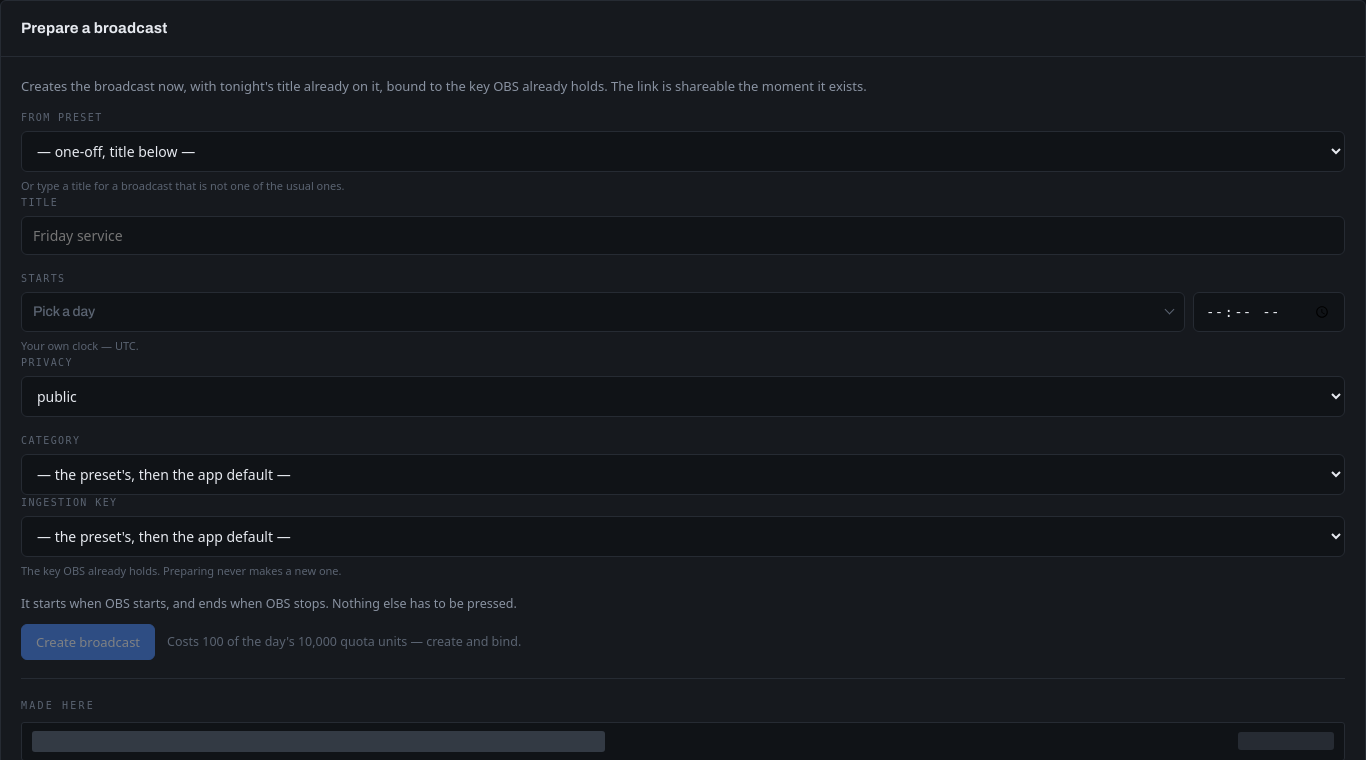
Scenario: PrepareBroadcast › will not create anything until it has a title and a start time
Expected: the button "Create broadcast" is disabled, [21,624,155,660]
Select "Friday service" in the dropdown labelled "From preset": (683, 152) [21,131,1345,172]
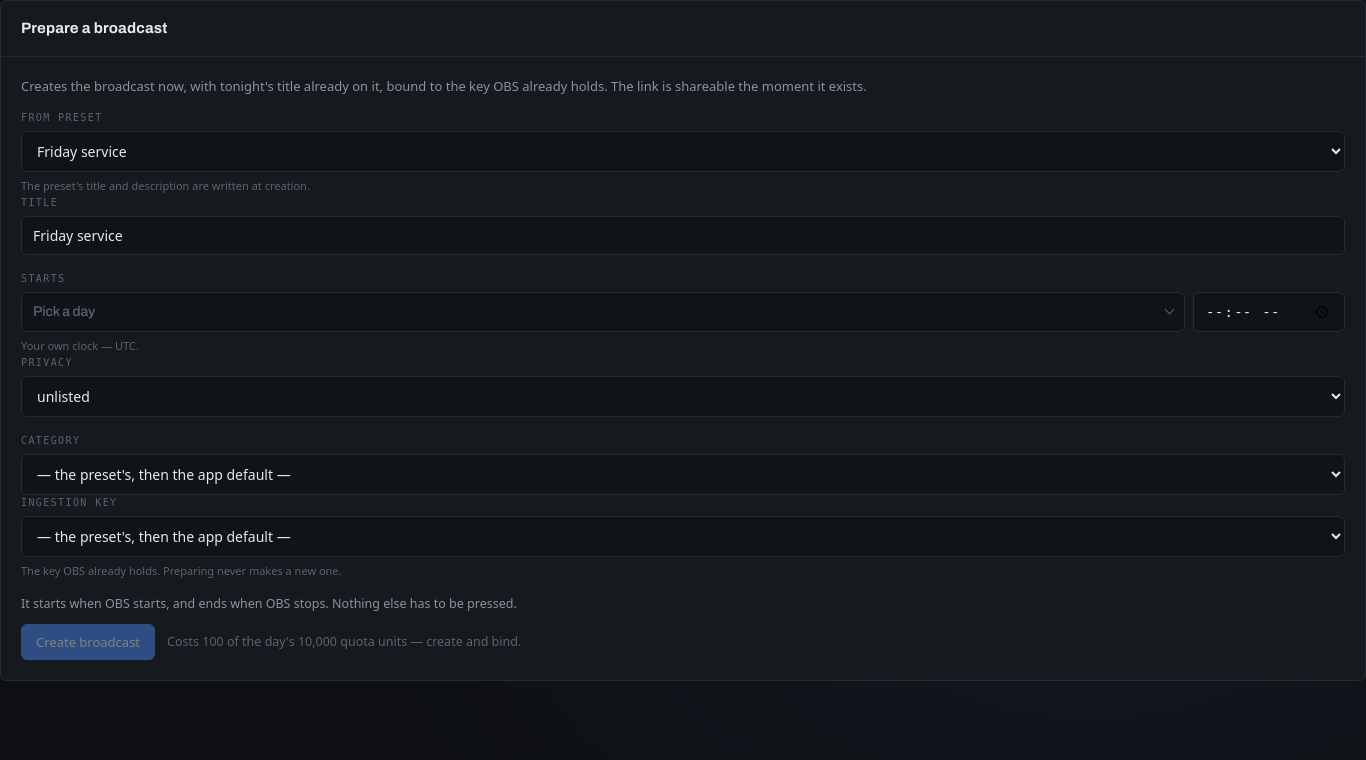
Expected: the button "Create broadcast" is disabled, [21,624,155,660]
Click the button named "Starts ": click(64, 312) [21,292,1185,332]
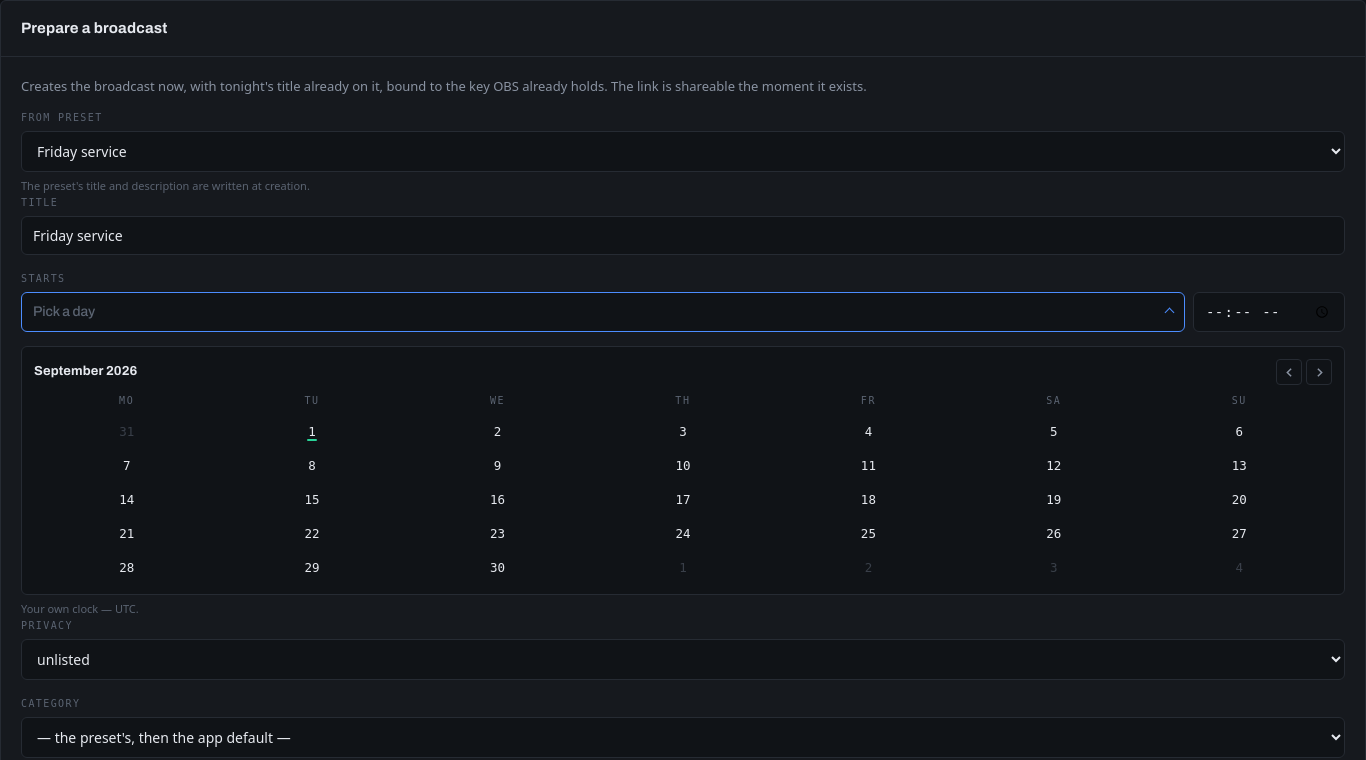
Click the button named "Friday, September 4th, 2026": click(868, 431) [777,415,960,447]
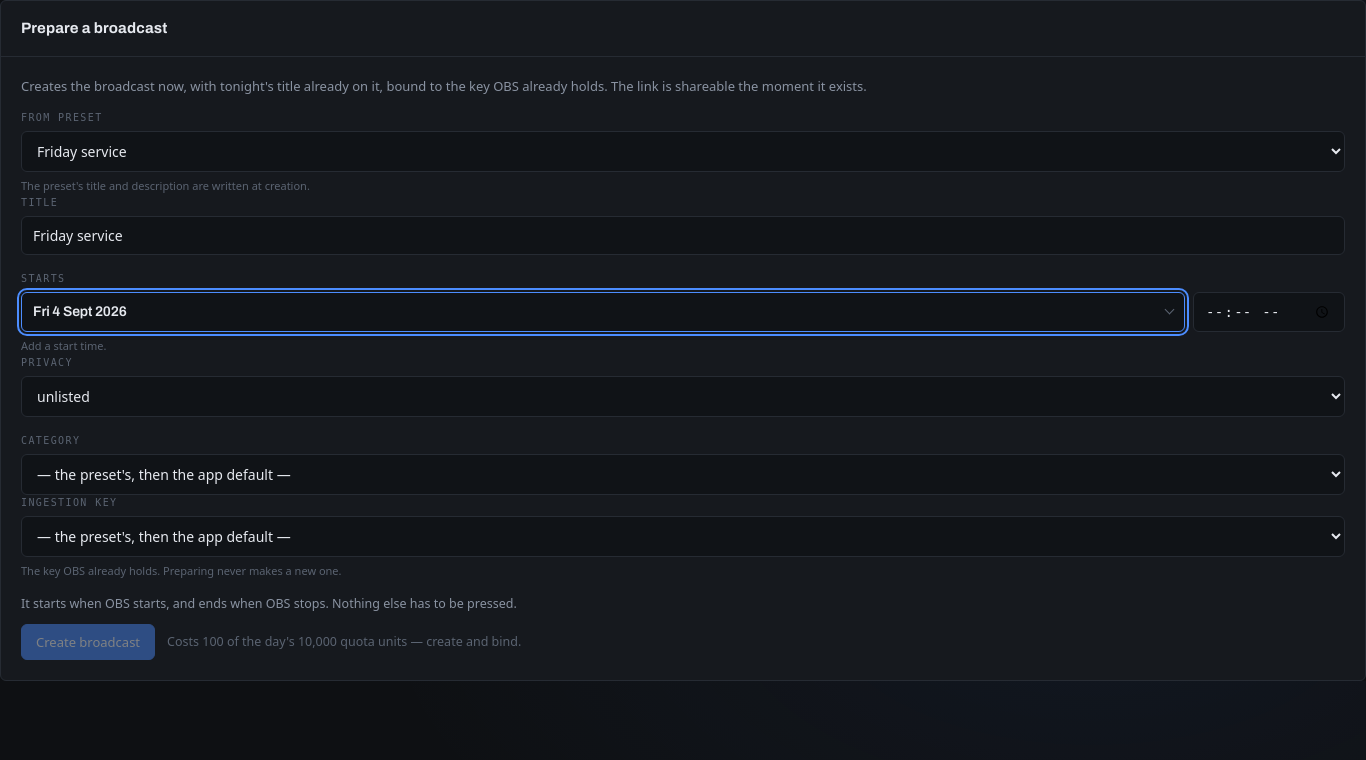
In the time field named "Starts — time of day": (1269, 312) [1193,292,1345,332], type "19:00"
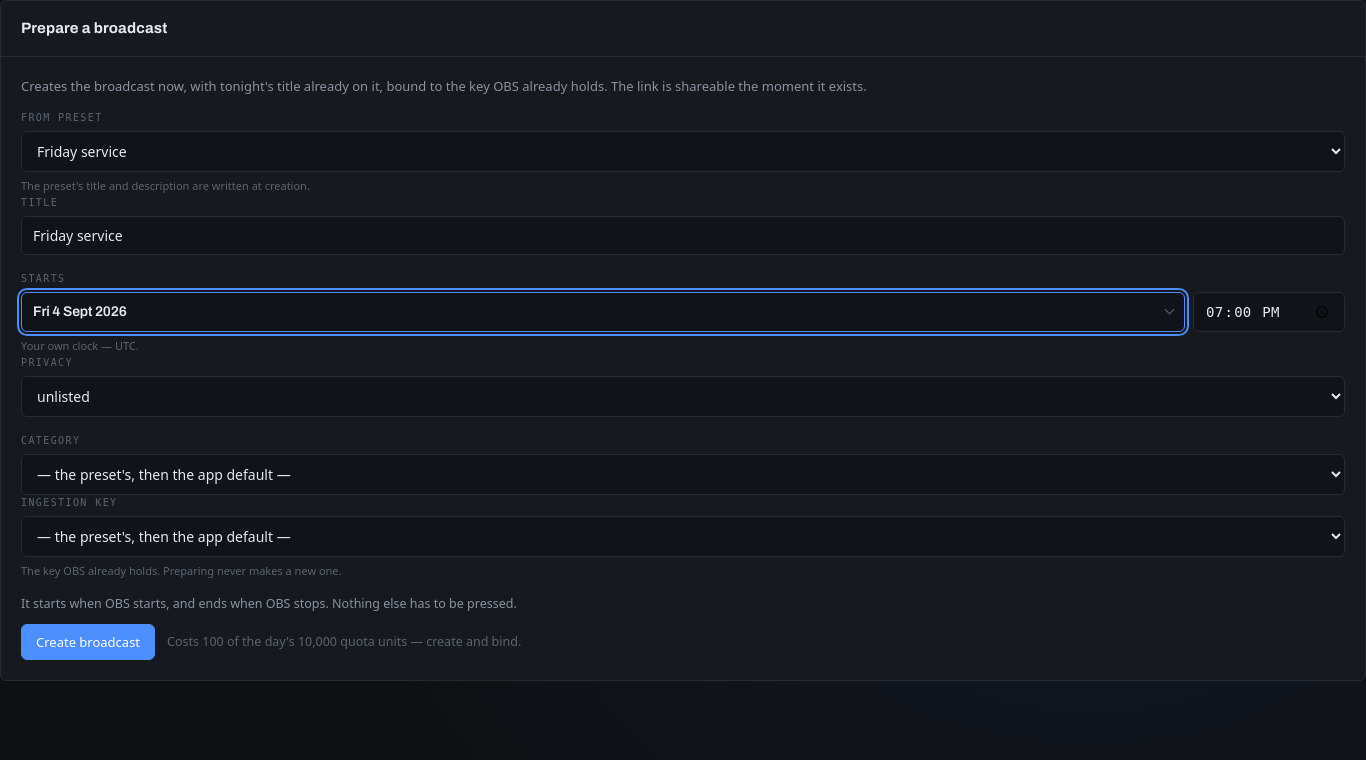
Expected: the button "Create broadcast" is enabled, [21,624,155,660]
